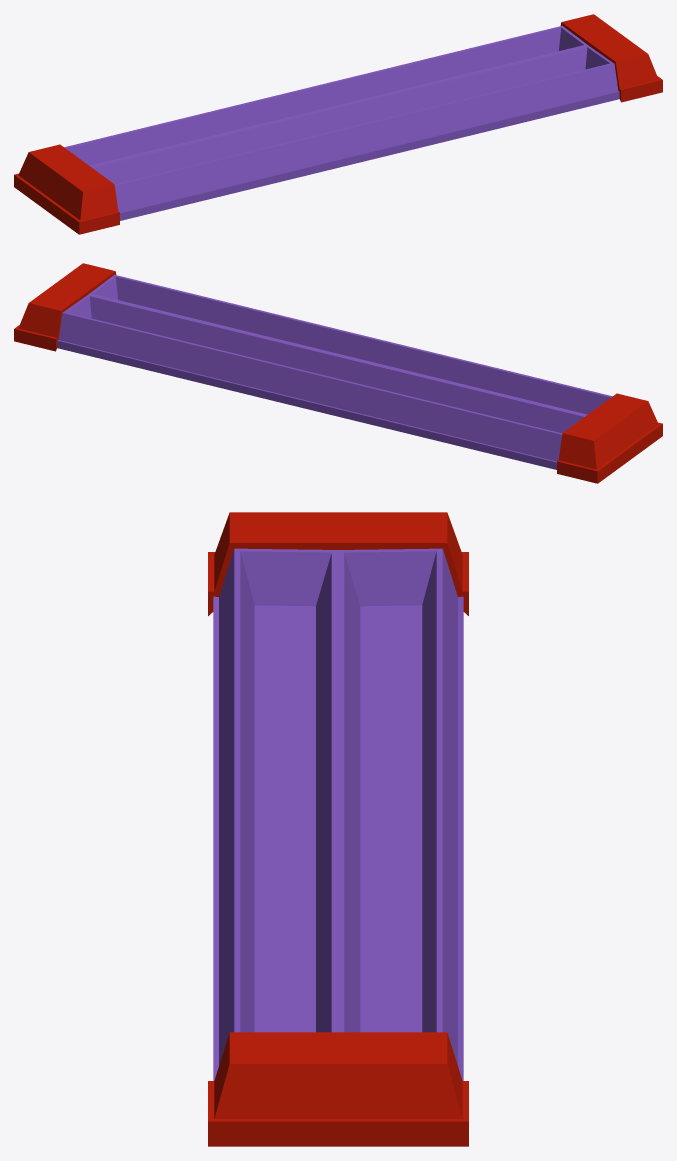
File: bar.FBX
3 renders of one model, top to bottom at view 1: azimuth 30°, elevation 25°; view 2: azimuth 150°, elevation 25°; view 3: azimuth 270°, elevation 25°, orthographic. The views are drawn at different scales.
Visible parts, largest first — view 1: bar; view 2: bar; view 3: bar.
Part boxes in pixels (bbox=[...]): bar: bbox=[14, 14, 662, 234]; bar: bbox=[14, 263, 662, 483]; bar: bbox=[208, 512, 468, 1146].
Size of the model in its own units: 214 by 12.82 by 41.3.
